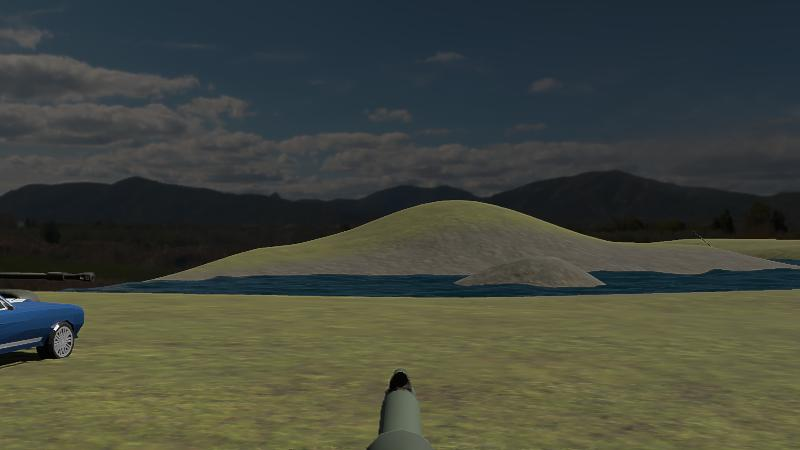Tank: (0, 259, 95, 302)
car: (0, 279, 91, 386)
